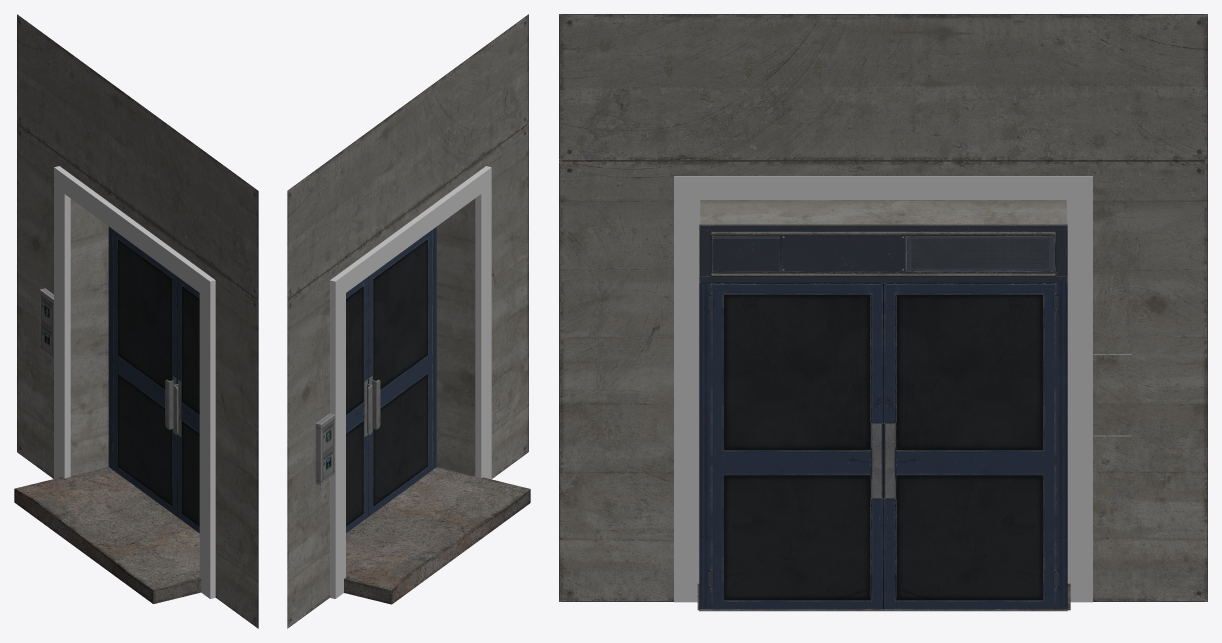
The model's file is CP_Wall_Entry_4m_01.fbx.
3 views of the same model, side by side, from view 1: azimuth 30°, elevation 25°; view 2: azimuth 150°, elevation 25°; view 3: azimuth 270°, elevation 25° (orthographic). The views are drawn at different scales.
Parts seen in each view (by area): view 1: CP_Wall_Entry_4m_01; view 2: CP_Wall_Entry_4m_01; view 3: CP_Wall_Entry_4m_01.
Boxes of the visible parts, box(x1,y1,x2,y2) form: CP_Wall_Entry_4m_01: box(14, 14, 258, 628); CP_Wall_Entry_4m_01: box(287, 14, 530, 628); CP_Wall_Entry_4m_01: box(559, 14, 1207, 611).
Size of the model in its own units: 90.62 by 400 by 400.
